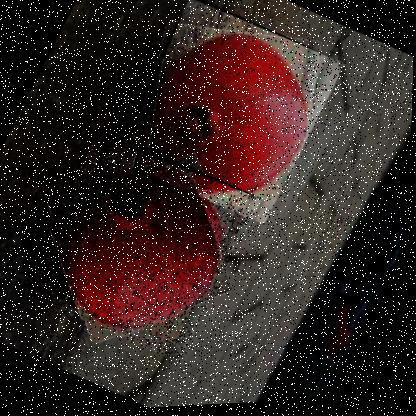pomegranate: (16, 122, 265, 372), (108, 0, 347, 235)
